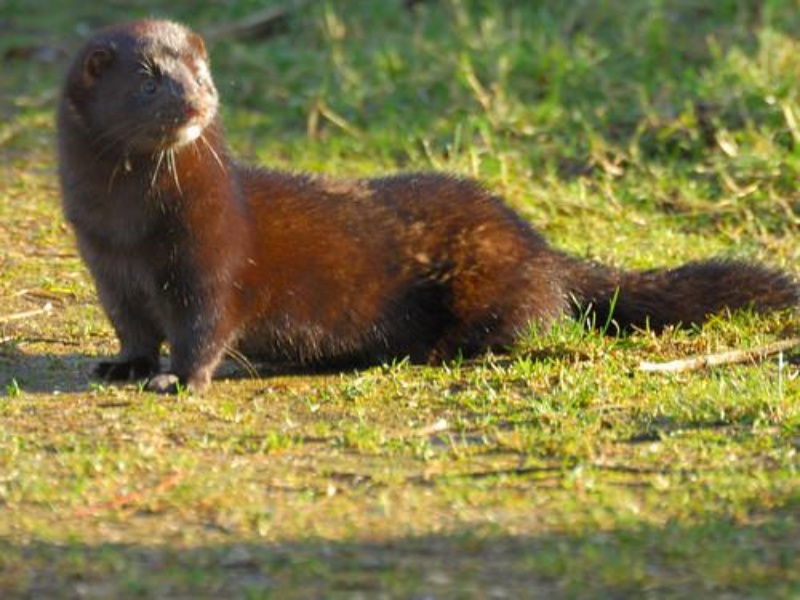minkish: (51, 16, 800, 395)
